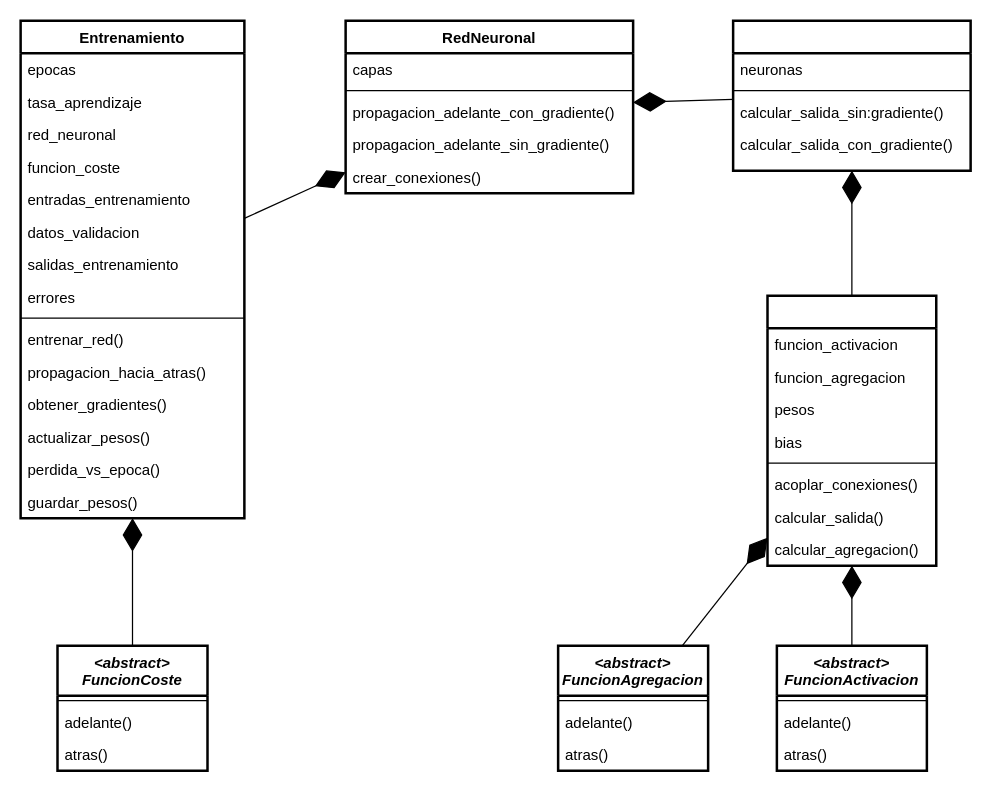
The diagram is 991 pixels wide and 791 high, and some of its shapes have lost their labels. The shapes that lost their labels are listed below. From the top down, each one's box as (x1, y1, x2, y2) in pixels, then its label:
(731, 19, 971, 171): Capa
(766, 294, 937, 566): Neurona
